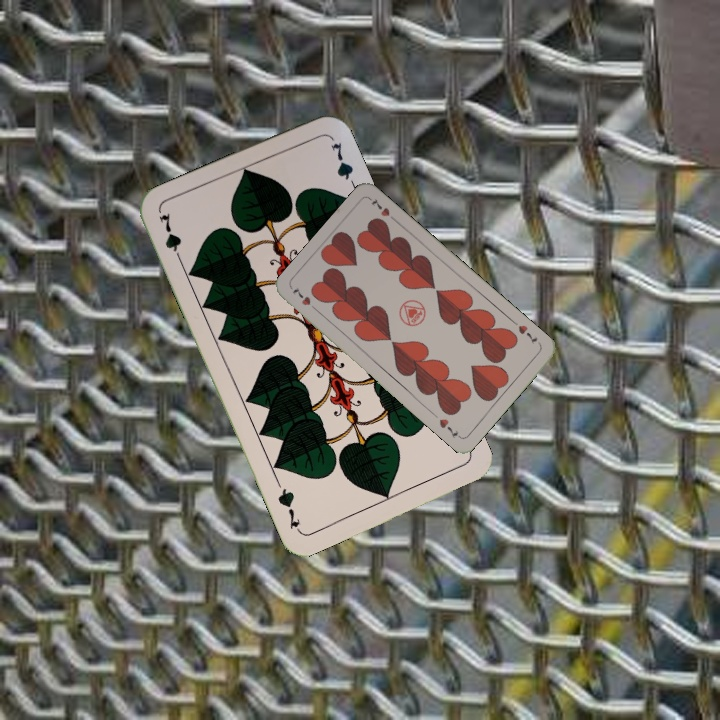G7: (154, 209, 186, 267)
H7: (288, 283, 321, 315), (514, 321, 540, 347)
